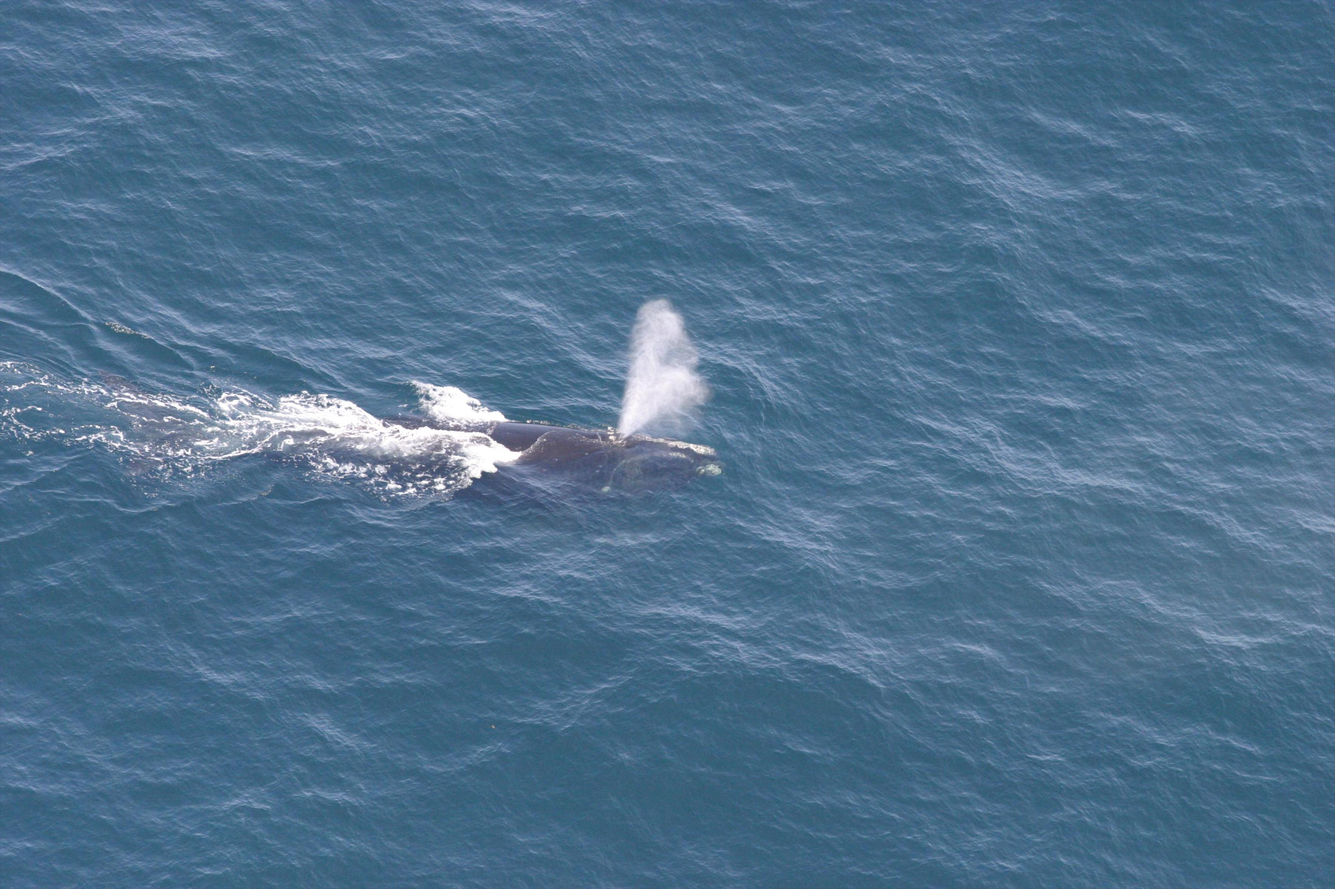whale: (237, 381, 732, 541)
